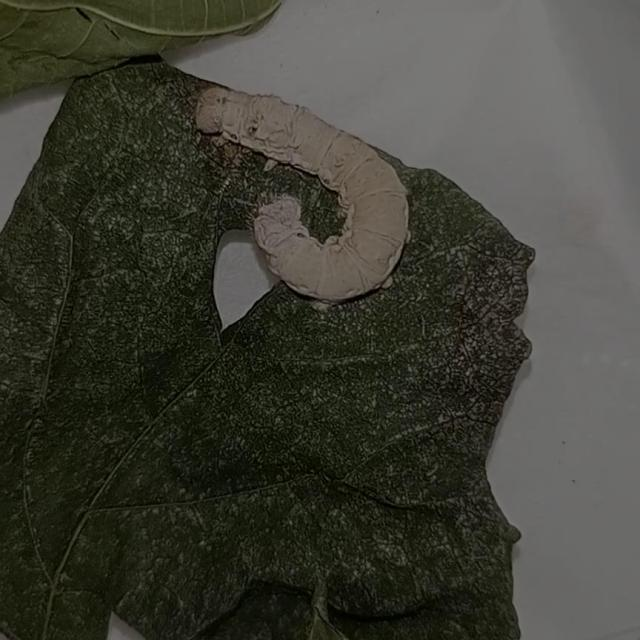Healthy: (178, 59, 431, 326)
